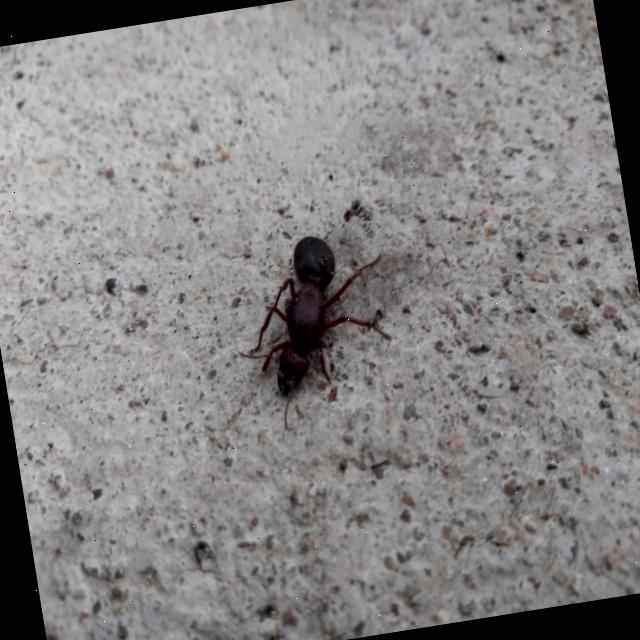Alive-Female-Dealate: (223, 225, 406, 436)
